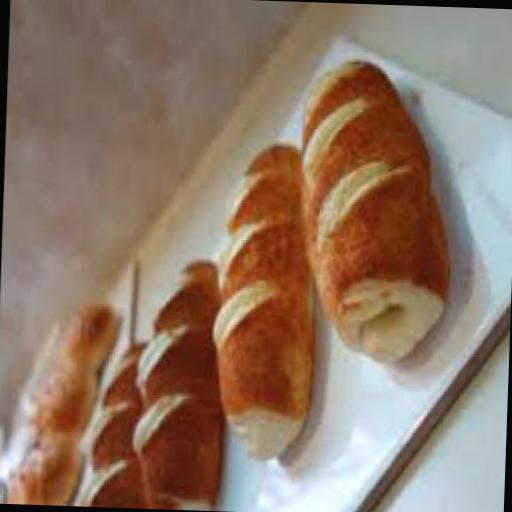biodegradable: (292, 52, 452, 362), (202, 136, 318, 464), (126, 249, 221, 508), (2, 294, 115, 504), (78, 334, 138, 504)
